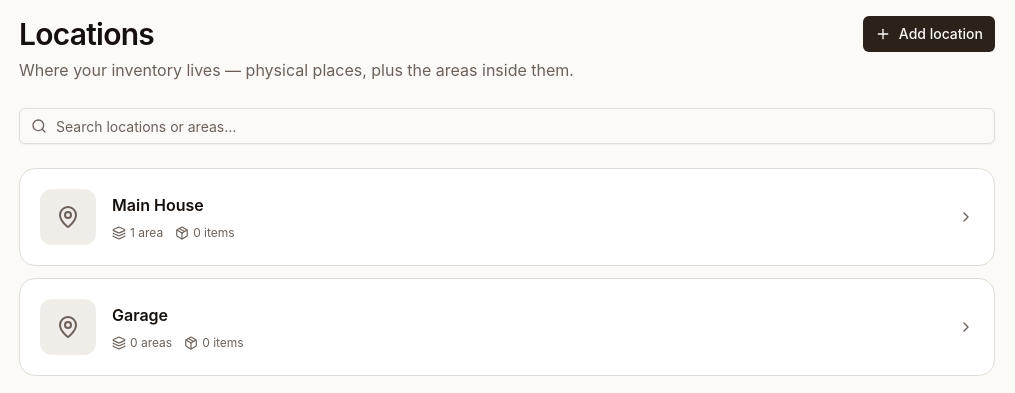
it: <LocationsListPage /> › filters by query against location and area names
The width and height of the screenshot is (1015, 393).
expect the number of elements with test id "location-card" is 2: met, box [19,168,995,266]; [19,278,995,376]
Type "kitchen" into the search field with test id "locations-search".
click(507, 126); type("kitchen")  # box [19,108,995,144]
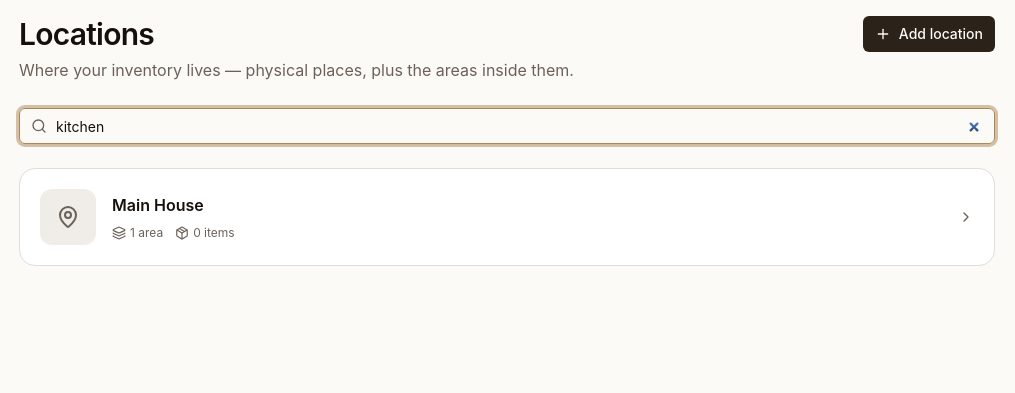
expect the text "Main House" is shown: met, box [112,195,204,215]
expect the number of elements with test id "location-card" is 1: met, box [19,168,995,266]
